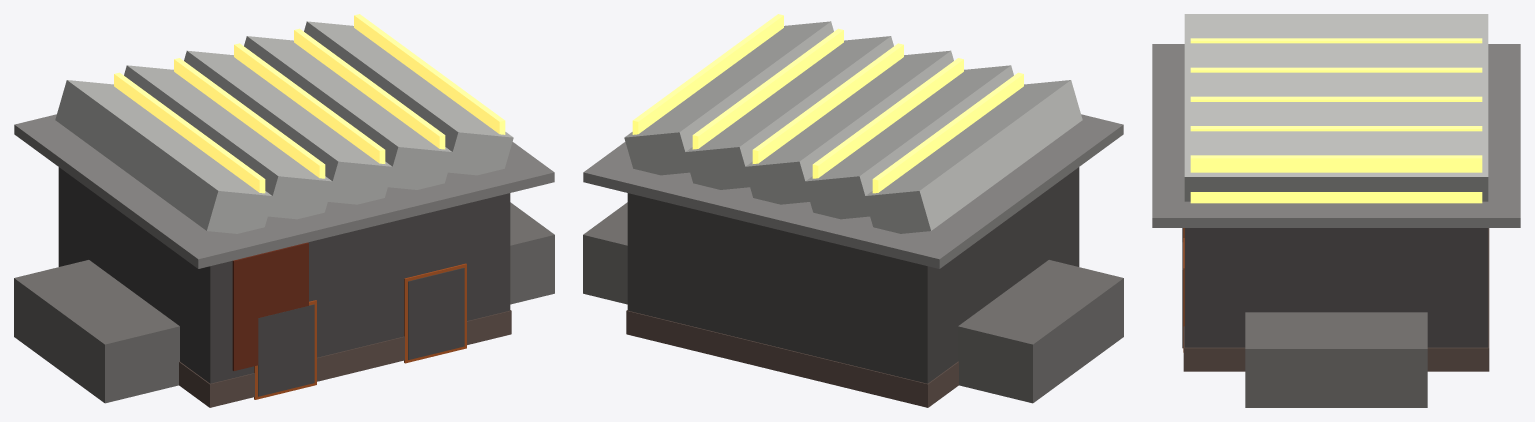
The model's file is processing_hall_1_kiln.glb.
3 views of the same model, side by side, from view 1: azimuth 30°, elevation 25°; view 2: azimuth 150°, elevation 25°; view 3: azimuth 270°, elevation 25° (orthographic).
Visible parts, largest first — view 1: Cube, Cube.003, Cube.018, Cube.004, Cube.006, Cube.012, Cube.010, Cube.008, Cube.002, Cube.001, Cube.017, Cube.015 (+8 smaller); view 2: Cube, Cube.003, Cube.018, Cube.004, Cube.012, Cube.006, Cube.010, Cube.008, Cube.001, Cube.019, Cube.011, Cube.007 (+3 smaller); view 3: Cube, Cube.003, Cube.019, Cube.012, Cube.013, Cube.006, Cube.004, Cube.008, Cube.010, Cube.001, Cube.005, Cube.007 (+2 smaller).
Boxes of the visible parts, x1,y1,x2,y2 form: Cube: (58,167,510,383); Cube.003: (14,114,554,268); Cube.018: (14,260,179,403); Cube.004: (55,80,273,233); Cube.006: (124,65,333,219); Cube.012: (304,21,513,175); Cube.010: (244,36,453,189); Cube.008: (184,50,393,204); Cube.002: (232,242,308,370); Cube.001: (179,310,511,407); Cube.017: (408,268,464,359); Cube.015: (258,304,314,396); Cube: (627,167,1079,383); Cube.003: (583,114,1123,268); Cube.018: (958,260,1123,403); Cube.004: (864,80,1082,233); Cube.012: (624,21,833,175); Cube.006: (804,65,1013,219); Cube.010: (684,36,893,189); Cube.008: (744,50,953,204); Cube.001: (626,310,958,407); Cube.019: (583,202,627,304); Cube.011: (692,28,843,149); Cube.007: (812,58,963,178); Cube: (1184,228,1488,347); Cube.003: (1152,44,1520,227); Cube.019: (1245,312,1427,407); Cube.012: (1184,131,1488,201); Cube.013: (1190,155,1482,203); Cube.006: (1184,43,1488,72); Cube.004: (1184,14,1488,43); Cube.008: (1184,72,1488,101); Cube.010: (1184,102,1488,131); Cube.001: (1183,228,1489,371); Cube.005: (1190,38,1482,43); Cube.007: (1190,67,1482,72).
Bounding box in the file's own units: 24 × 11.08 × 17.
